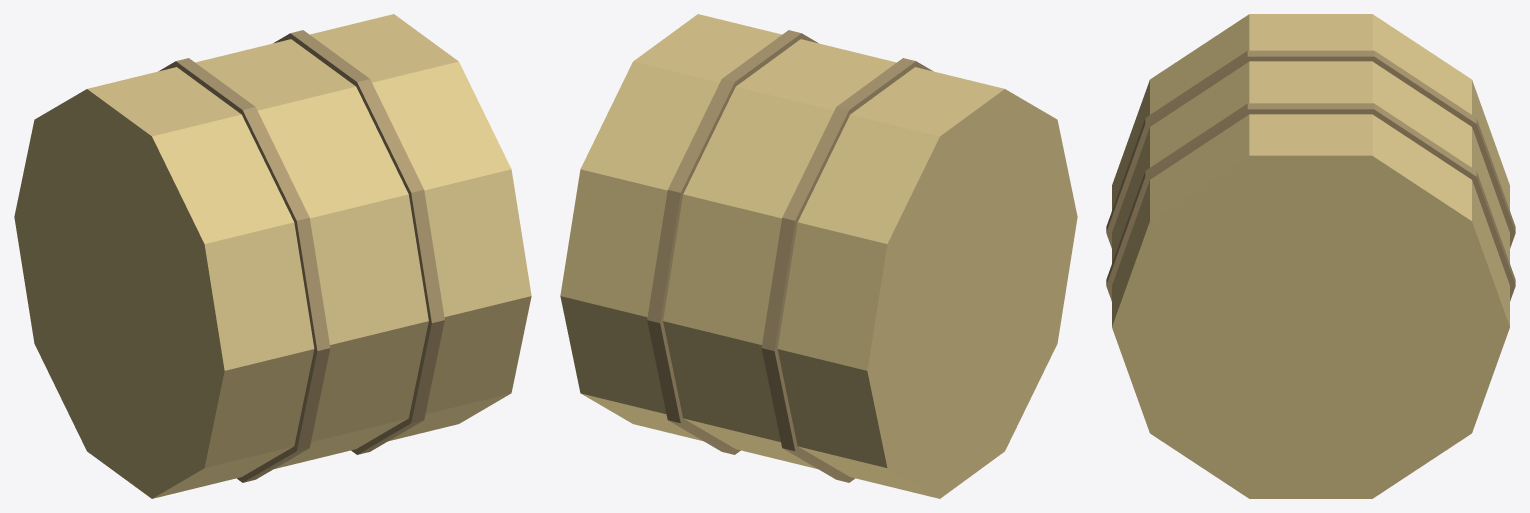
File: hay.glb
3 renders of one model, left to right at view 1: azimuth 30°, elevation 25°; view 2: azimuth 150°, elevation 25°; view 3: azimuth 270°, elevation 25°, orthographic. The views are drawn at different scales.
Parts seen in each view (by area): view 1: Bale, Twine_A, Twine_B; view 2: Bale, Twine_B, Twine_A; view 3: Bale, Twine_A, Twine_B.
Boxes of the visible parts, x1,y1,x2,y2 form: Bale: (14, 14, 531, 498); Twine_A: (273, 30, 444, 454); Twine_B: (158, 58, 330, 482); Bale: (560, 14, 1077, 498); Twine_B: (761, 58, 933, 482); Twine_A: (647, 30, 818, 454); Bale: (1112, 14, 1509, 498); Twine_A: (1106, 103, 1515, 301); Twine_B: (1106, 50, 1515, 248).
Bounding box in the file's own units: 1.18 × 1.37 × 1.44.
